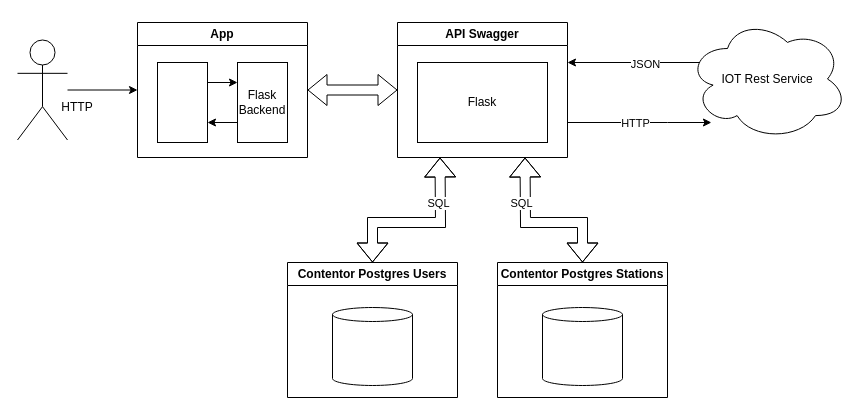
The diagram is 865 pixels wide and 415 high, and some of its shapes have lost their labels. Here are the shapes that lost their labels. From the top down, the centre of each, then its label:
point (42, 89): Utilizador
point (182, 102): UI
point (372, 346): Postgres Users
point (582, 346): Postgres Stations
